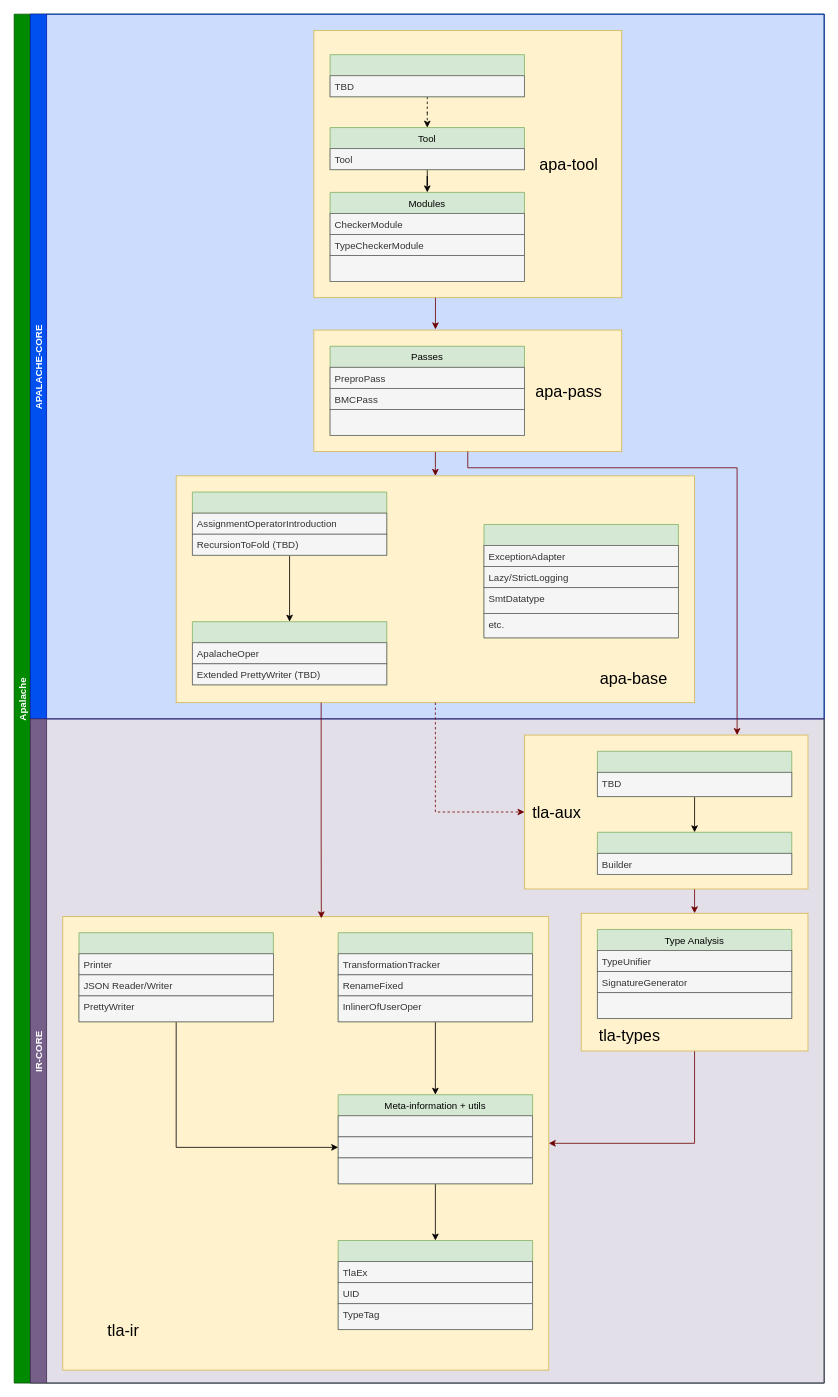
Image size: 838x1397. Some labels were removed from this diagram. The shapes that lost their labels are listed below. From the top down, each one's box as (x1, y1, x2, y2) in pixels, then its label:
(329, 54, 524, 97): GUI
(329, 255, 524, 281): ParserModule
(329, 409, 524, 435): TransitionPass
(192, 491, 387, 555): Apalache Xform
(483, 524, 678, 638): Glue
(192, 621, 387, 685): TLA+ Extensions
(597, 750, 792, 797): IR Manipulation (self-typing)
(597, 831, 792, 874): Self-typing Builder
(78, 932, 273, 1022): IR IO
(337, 932, 533, 1022): IR Manipulation (basic)
(597, 992, 792, 1019): TypeChecker
(337, 1115, 533, 1137): Annotation
(337, 1136, 533, 1158): SourceLocation
(337, 1157, 533, 1184): UniqueNameGenerator
(337, 1240, 533, 1330): TLA+ IR
